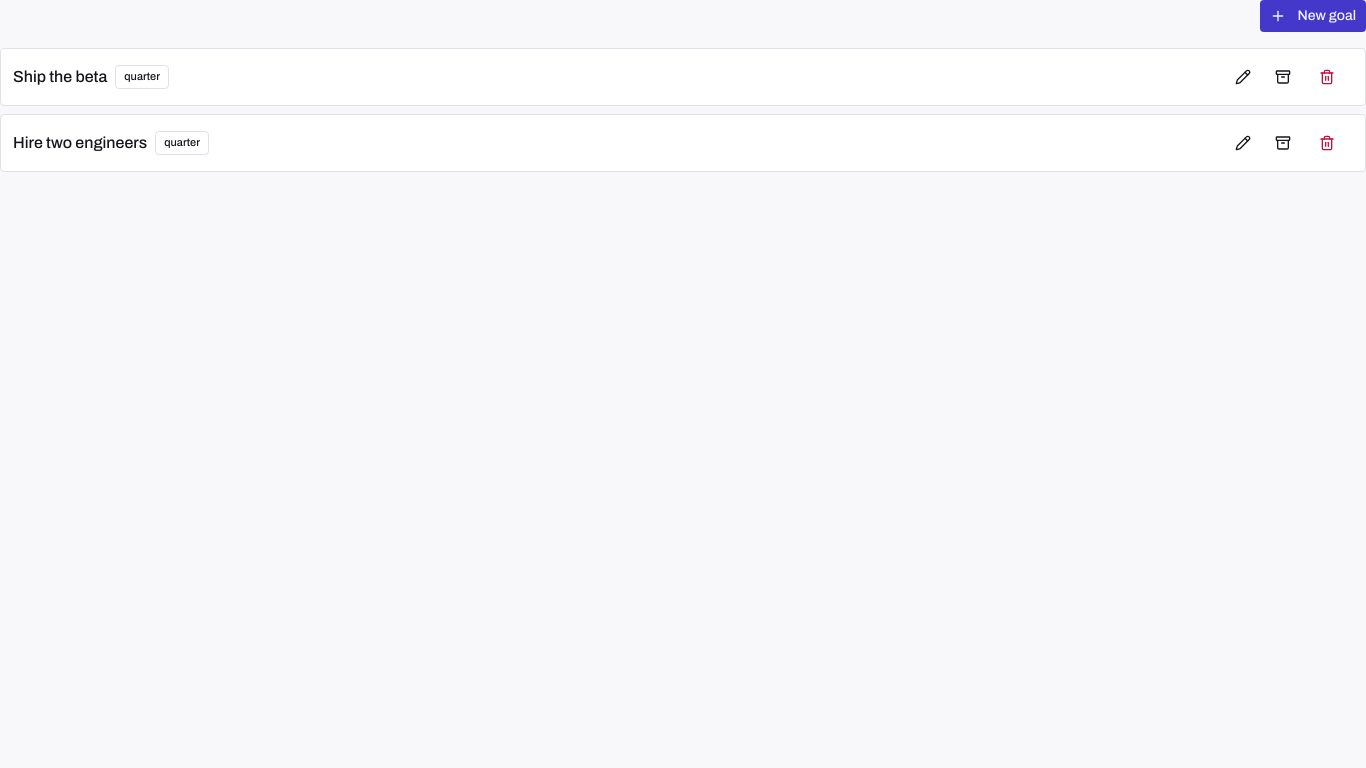
Test: GoalsView › does not offer a goal as its own parent
This screenshot has width=1366, height=768.
Step 1. Click the button named "Edit Ship the beta" → point(1243, 77), box [1225, 61, 1261, 93]
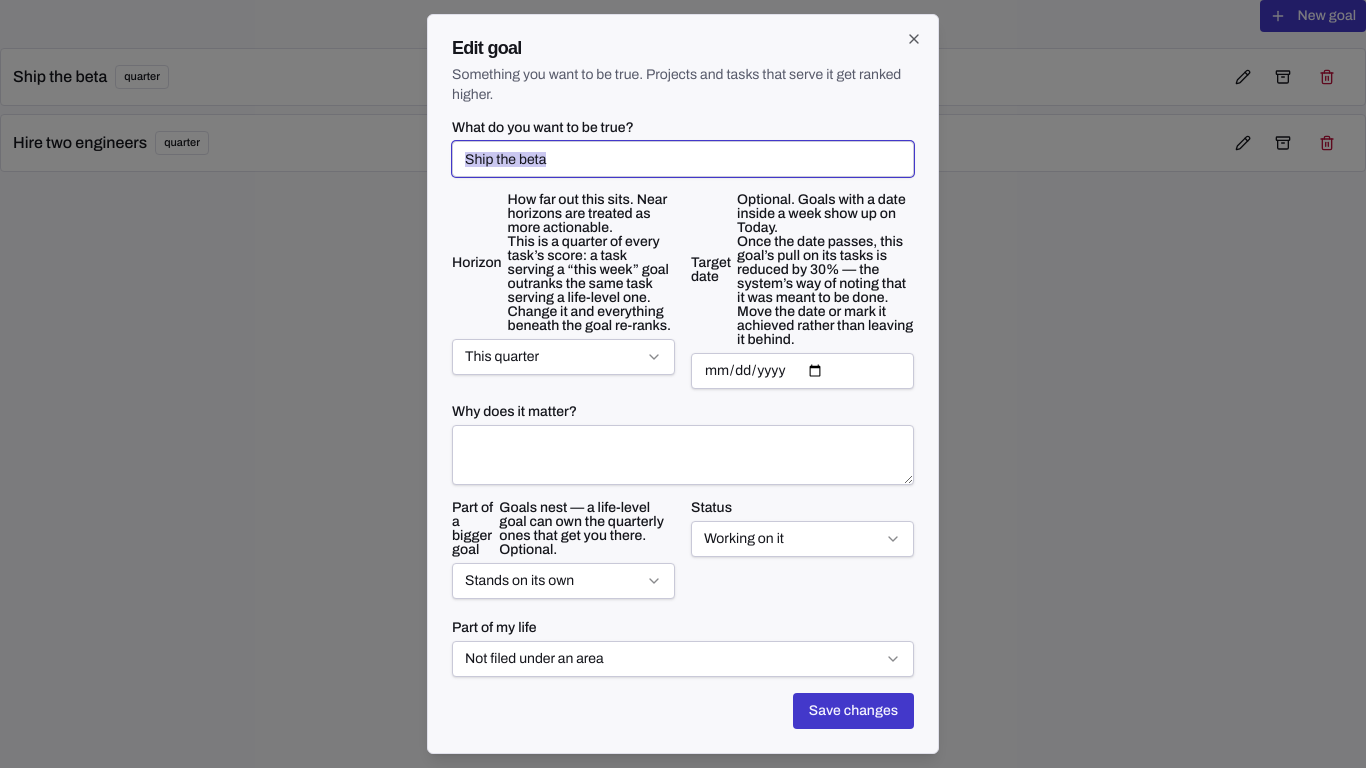
Check: the dropdown named "part of a bigger goal" is shown
Step 2. Click the dropdown named "part of a bigger goal" → point(564, 581), box [452, 563, 675, 599]
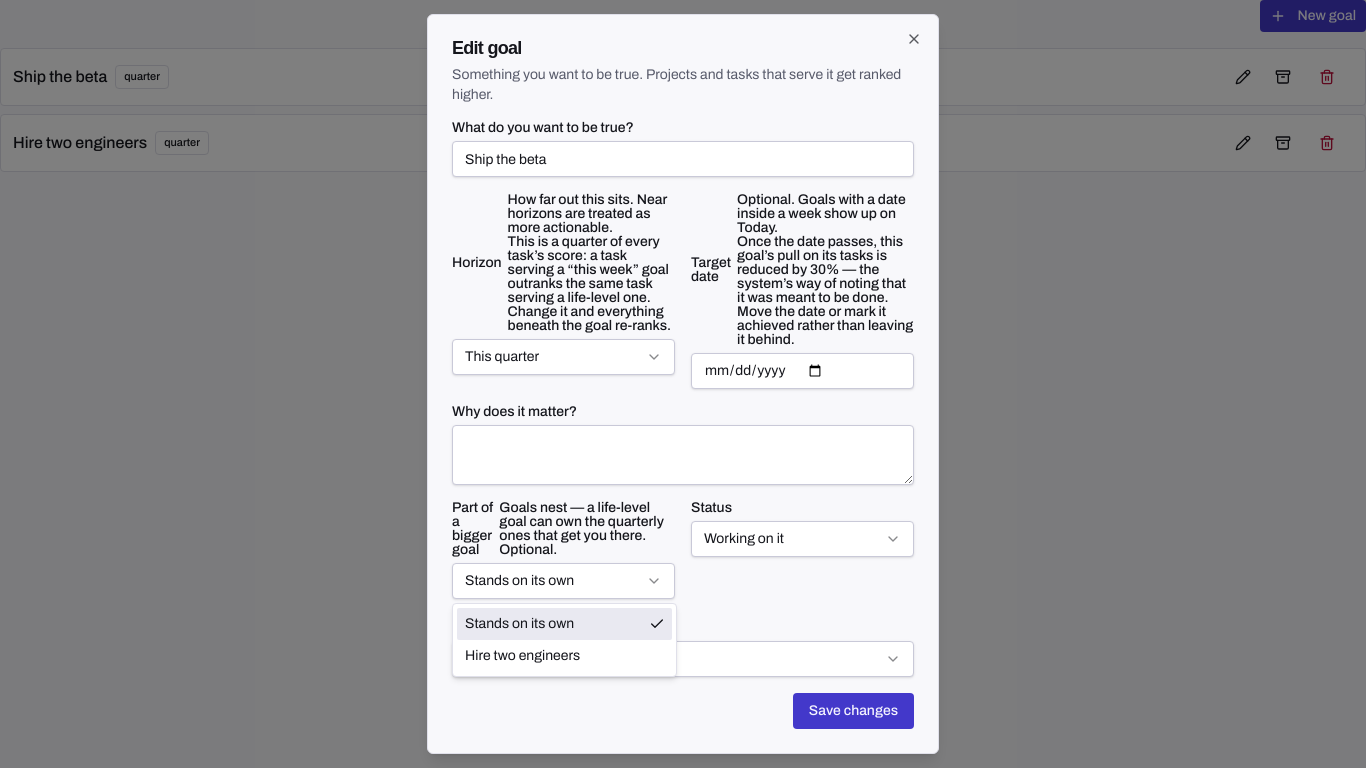
Check: the option "Hire two engineers" is shown, box [465, 648, 580, 663]
